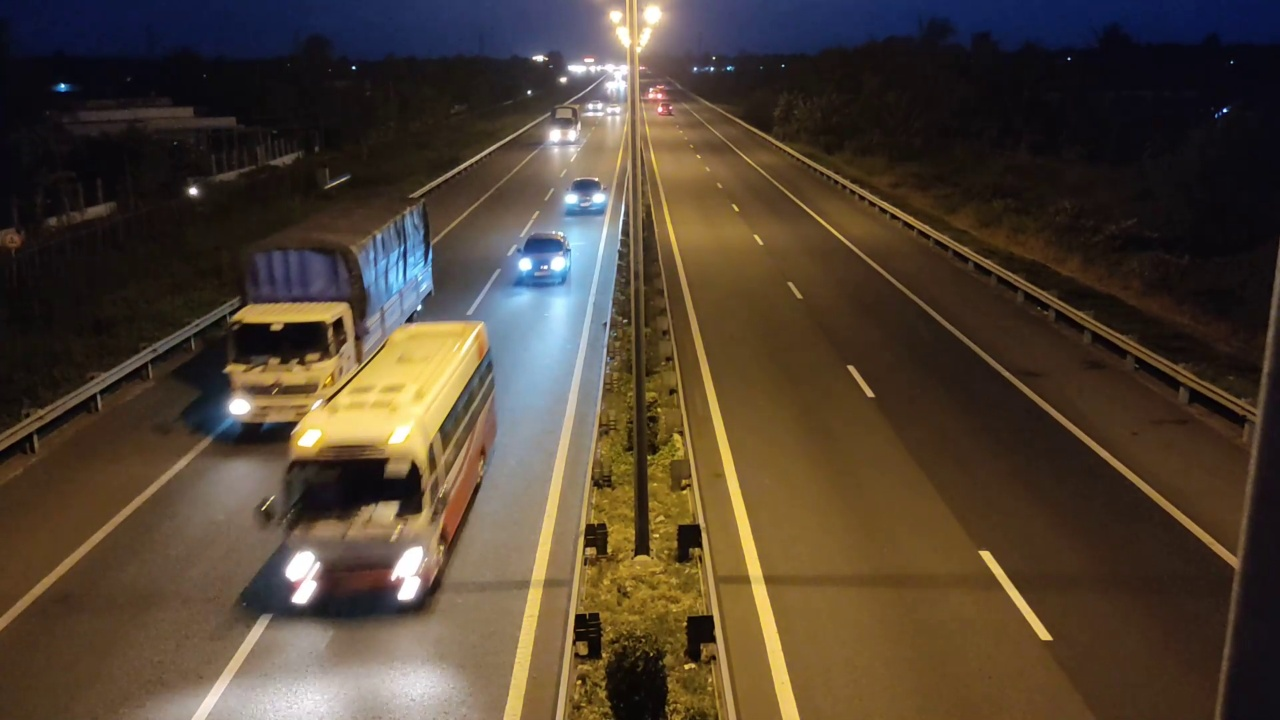bus: (270, 316, 505, 622)
car: (511, 231, 573, 287), (564, 177, 607, 214)
truck: (223, 194, 436, 438)
